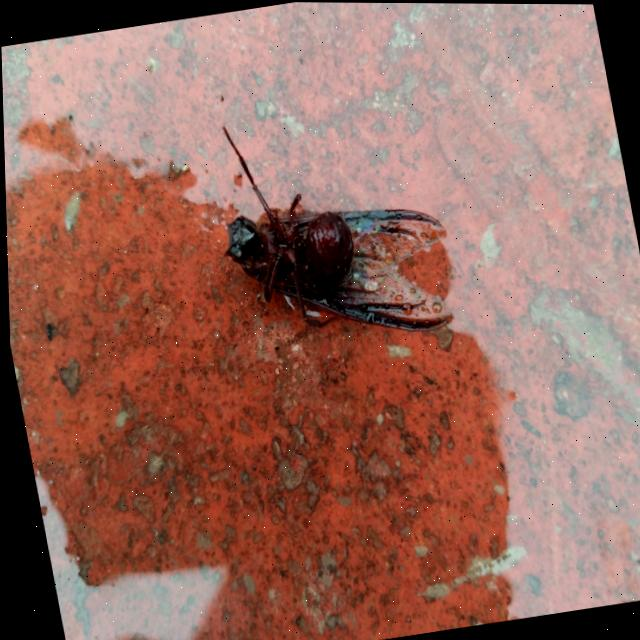Dead-Female-Alate: (197, 91, 463, 361)
